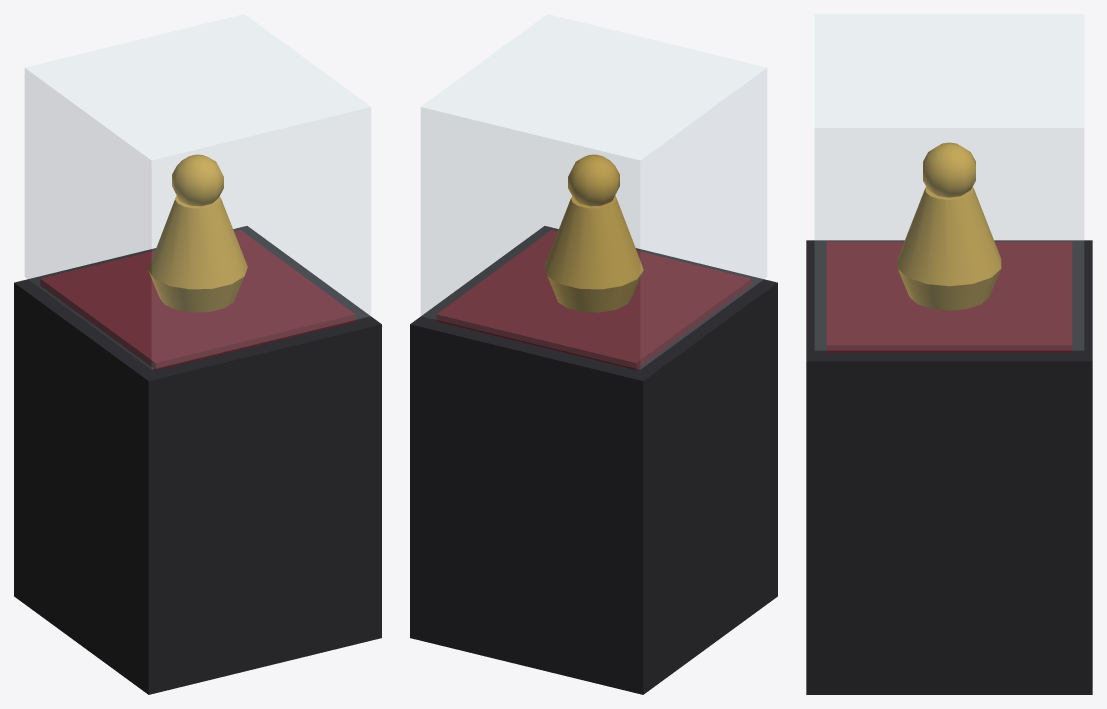
File: museum_exhibit.glb
3 renders of one model, left to right at view 1: azimuth 30°, elevation 25°; view 2: azimuth 150°, elevation 25°; view 3: azimuth 270°, elevation 25°, orthographic. The views are drawn at different scales.
Parts seen in each view (by area): view 1: museum_exhibit; view 2: museum_exhibit; view 3: museum_exhibit.
Boxes of the visible parts, x1,y1,x2,y2 form: museum_exhibit: (14,14,381,694); museum_exhibit: (410,14,777,694); museum_exhibit: (806,14,1092,694).
Size of the model in its own units: 0.7 by 1.52 by 0.7.
